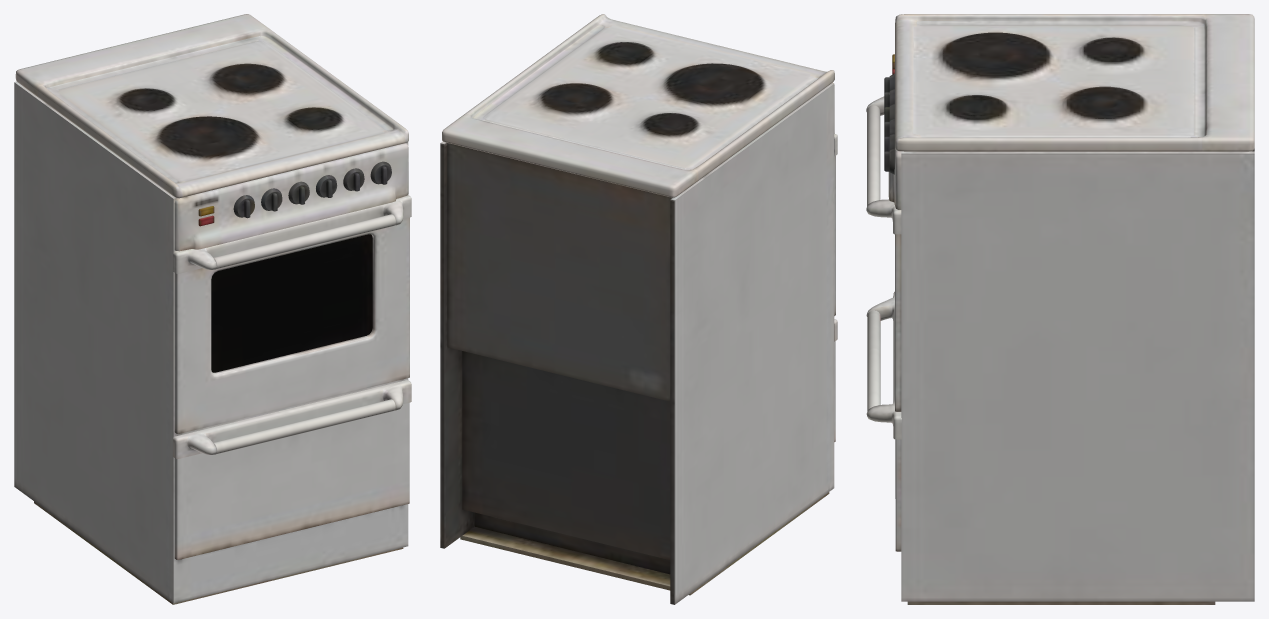
File: cooktop-induction.glb
3 views of the same model, side by side, from view 1: azimuth 30°, elevation 25°; view 2: azimuth 150°, elevation 25°; view 3: azimuth 270°, elevation 25° (orthographic). The views are drawn at different scales.
Visible parts, largest first — view 1: stovetop, door_top, handle_bottom_attachment; view 2: stovetop; view 3: stovetop, door_top, handle_bottom_attachment.
Boxes of the visible parts, x1,y1,x2,y2 form: stovetop: (14,14,408,604); door_top: (173,195,411,433); handle_bottom_attachment: (173,380,411,559); stovetop: (440,14,834,604); stovetop: (888,14,1254,604); door_top: (866,96,901,411); handle_bottom_attachment: (866,291,901,551).
Bounding box in the file's own units: 0.5026 × 0.8587 × 0.6476.
2 materials, 2 textured.
